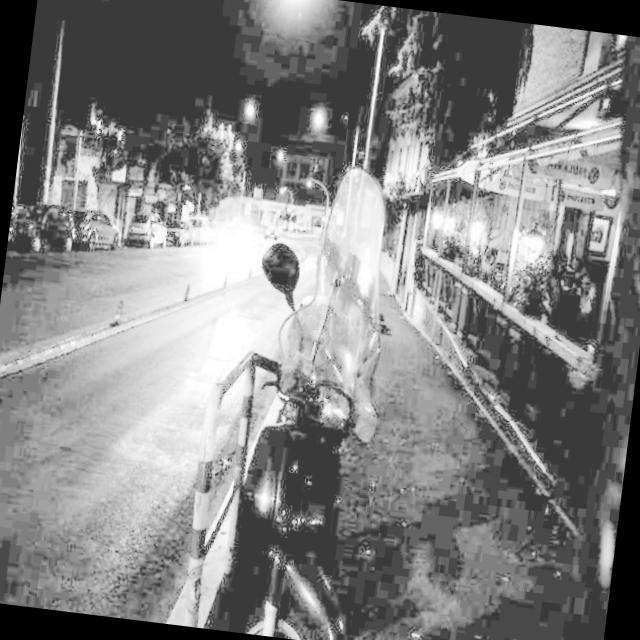Motorcycle: (183, 139, 462, 640)
